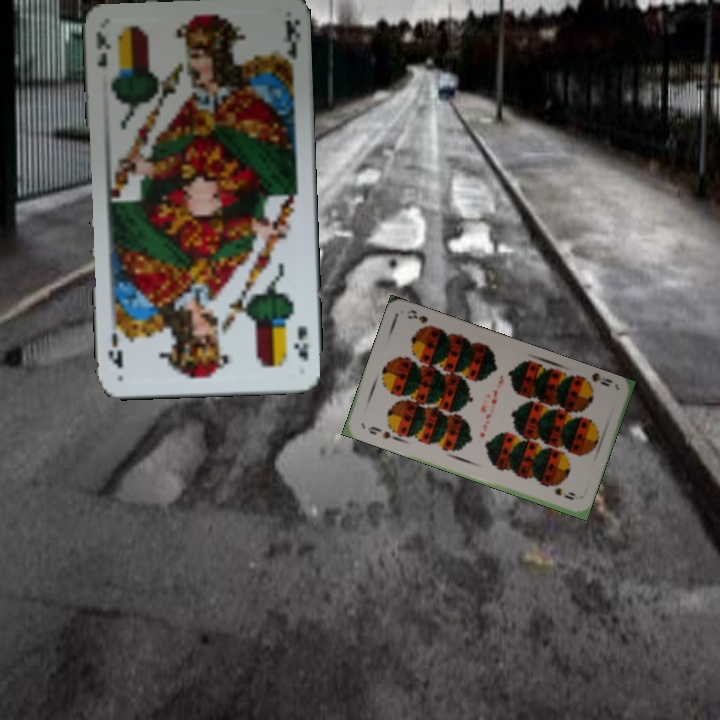EK: (91, 27, 114, 70), (289, 322, 311, 364)
S9: (577, 369, 615, 390), (364, 422, 393, 441)
